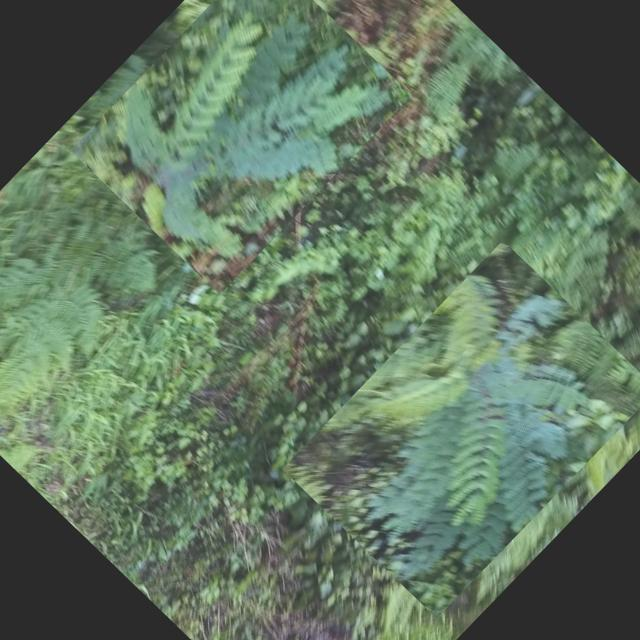Mysore-Thorn-Weed: (282, 240, 640, 618), (69, 0, 411, 295)
